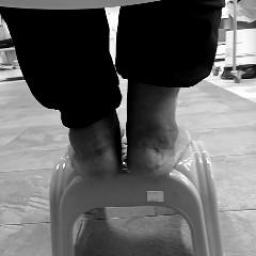Back View -Both Feet-: (40, 72, 209, 195)
